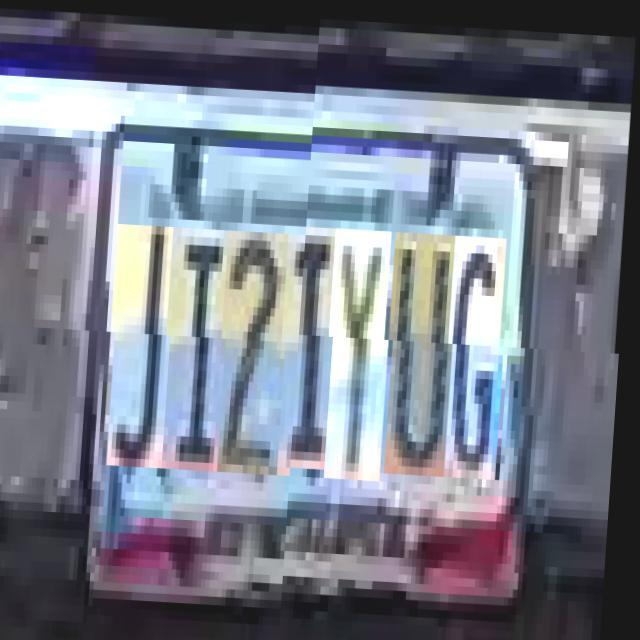2: (224, 228, 296, 472)
G: (449, 238, 514, 481)
I: (168, 224, 236, 468), (284, 230, 352, 474)
J: (113, 222, 181, 466)
U: (390, 235, 462, 479)
Y: (329, 233, 398, 485)
